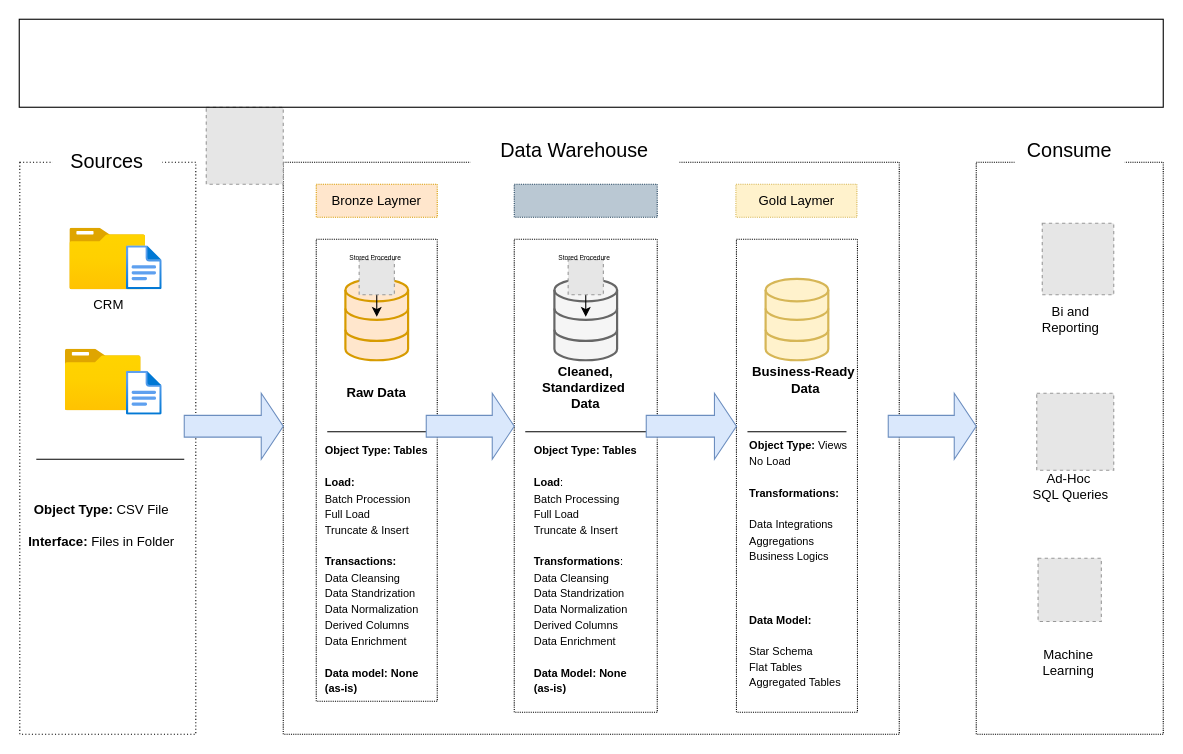
The diagram is 1183 pixels wide and 754 high, and some of its shapes have lost their labels. Grey dashed boxes stand in for pictures. The shapes that lost their labels are listed below. From the top down, each one's centre as x and y in pixels, then its label:
point (590, 62): High Level Architecture
point (585, 200): Silver Laymer
point (103, 379): ERP
